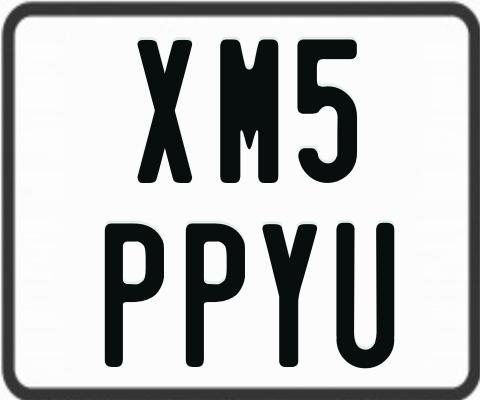5: (295, 36, 360, 180)
M: (219, 37, 277, 187)
P: (185, 220, 249, 364), (102, 222, 164, 367)
U: (334, 220, 395, 367)
X: (135, 39, 194, 185)
Y: (260, 222, 314, 370)
